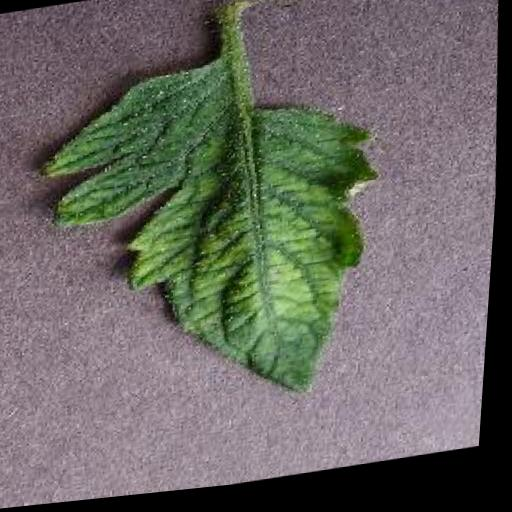Mosaic Virus: (18, 36, 402, 442)
